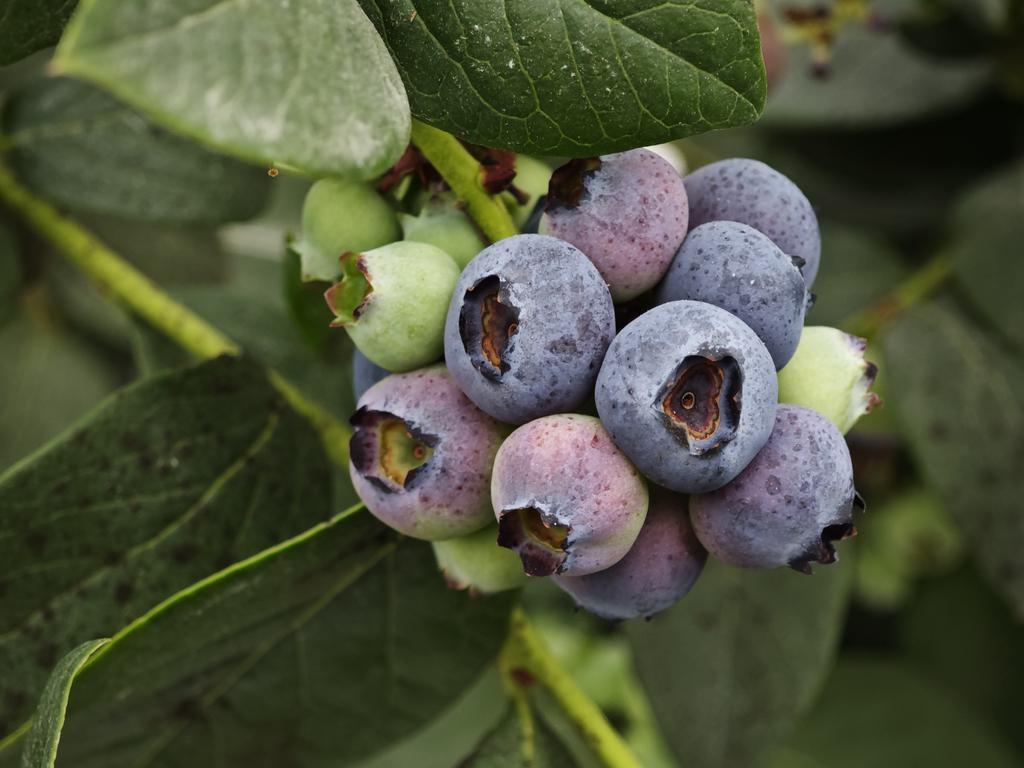RipeBlueBerry: (594, 298, 782, 495), (442, 229, 620, 421)
Semi-RipeBlueBerry: (345, 364, 505, 542), (489, 409, 651, 582), (535, 143, 691, 300)
